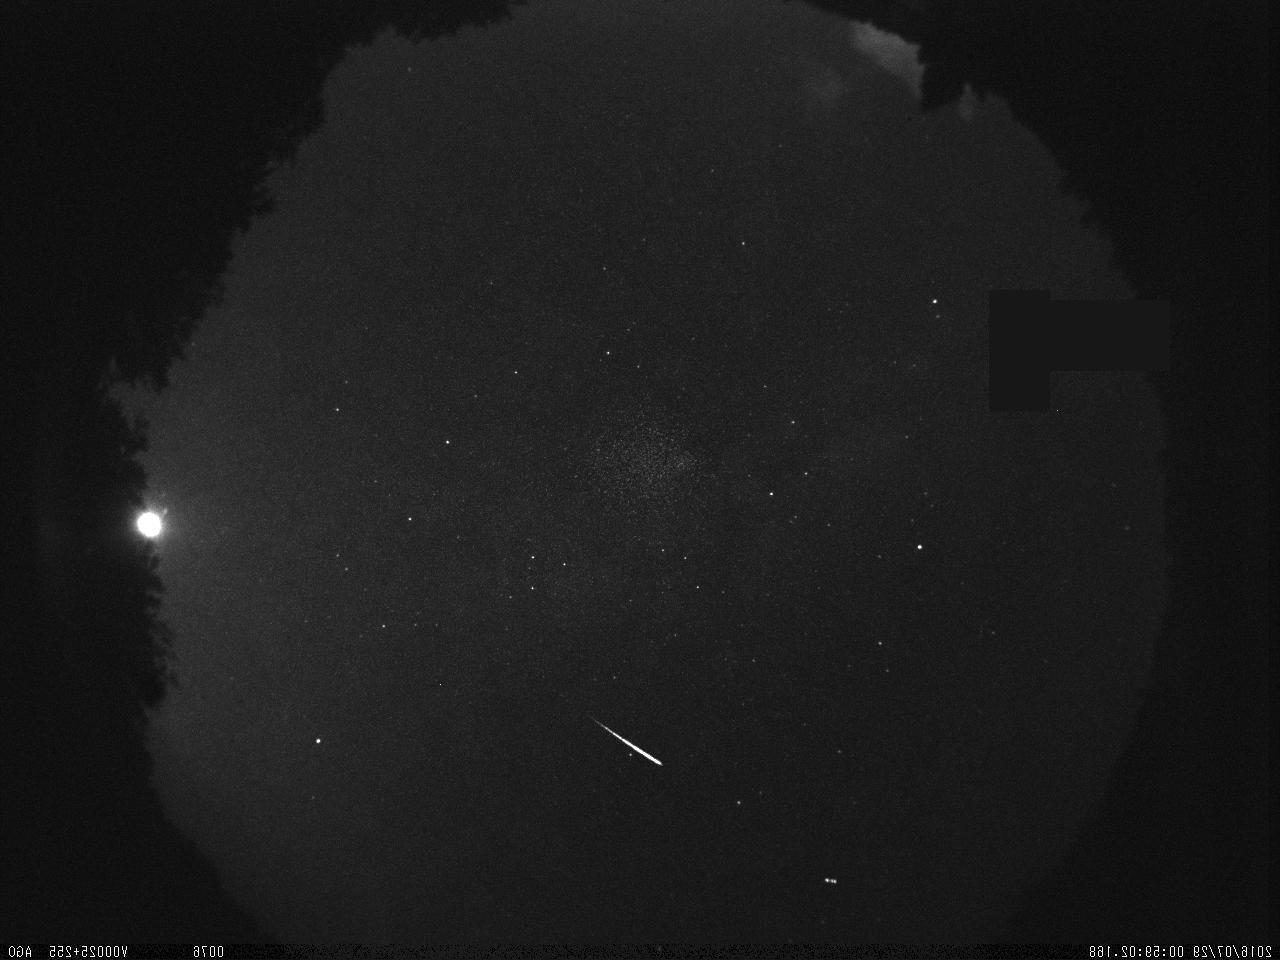meteor: (575, 702, 703, 777)
